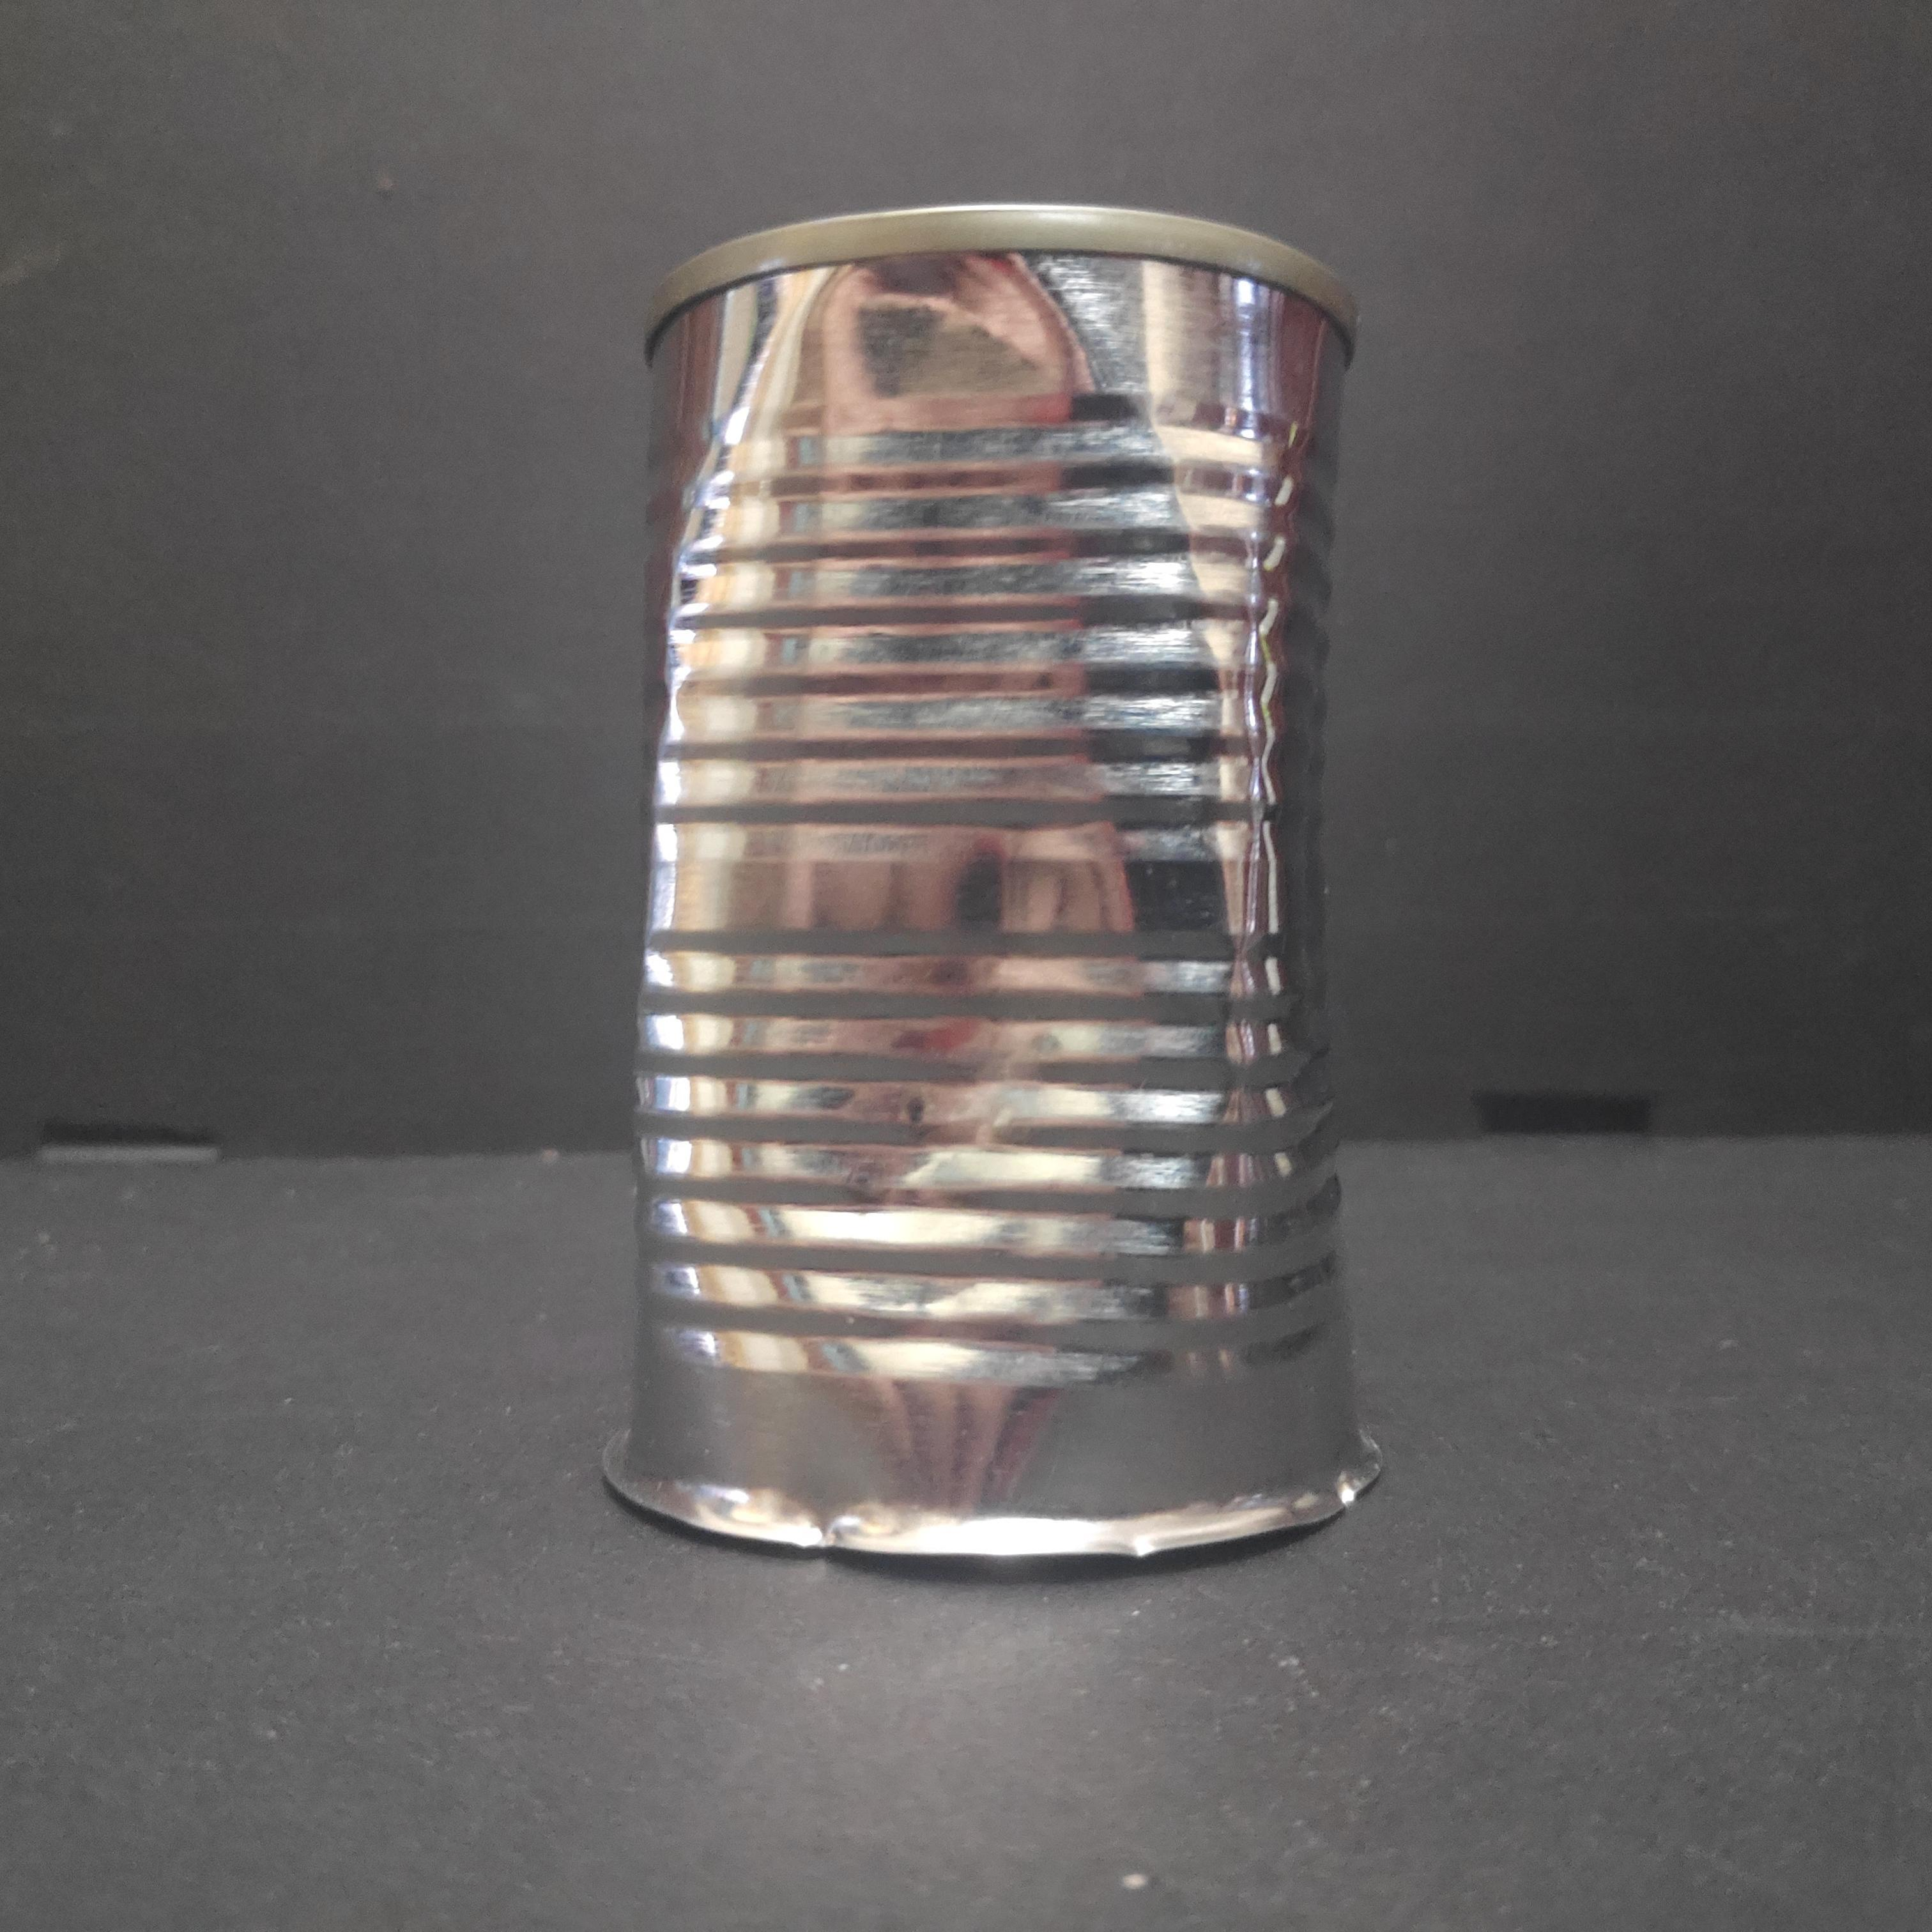Dented: (616, 173, 1399, 1619)
